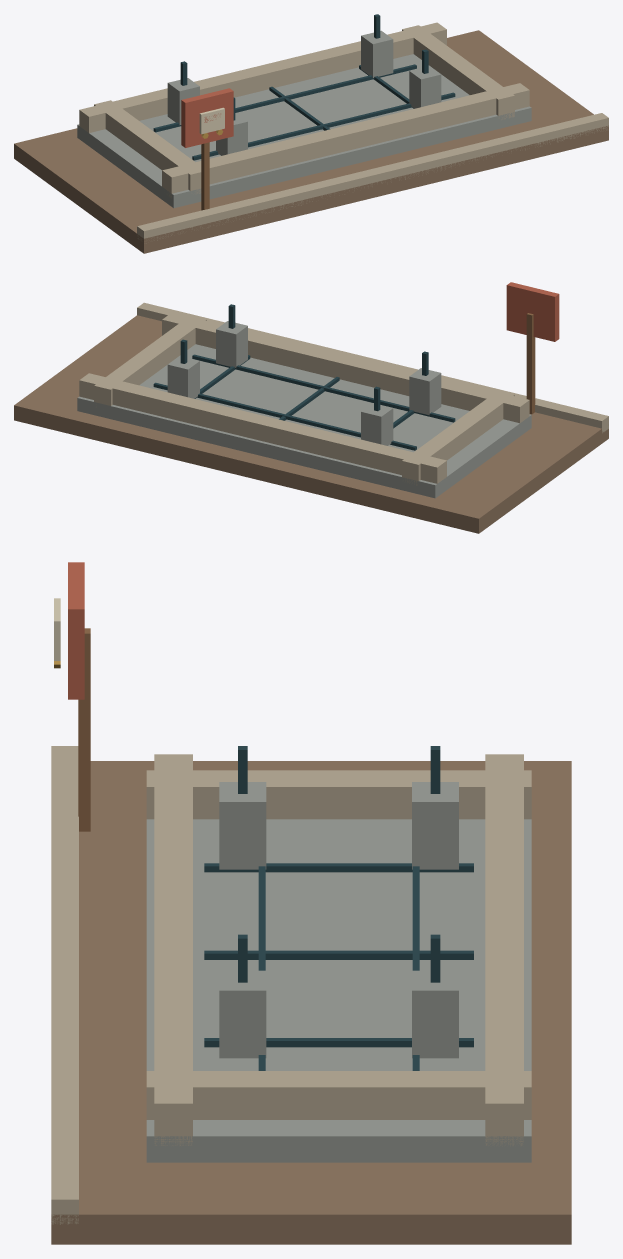
Rendered from train-station-foundation.glb.
3 renders of one model, top to bottom at view 1: azimuth 30°, elevation 25°; view 2: azimuth 150°, elevation 25°; view 3: azimuth 270°, elevation 25°, orthographic. The views are drawn at different scales.
Visible parts, largest first — view 1: train-station; view 2: train-station; view 3: train-station.
Boxes of the visible parts, x1,y1,x2,y2 form: train-station: (14,14,608,253); train-station: (14,282,608,533); train-station: (51,562,571,1244).
Size of the model in its own units: 3.88 by 1.09 by 1.88.
